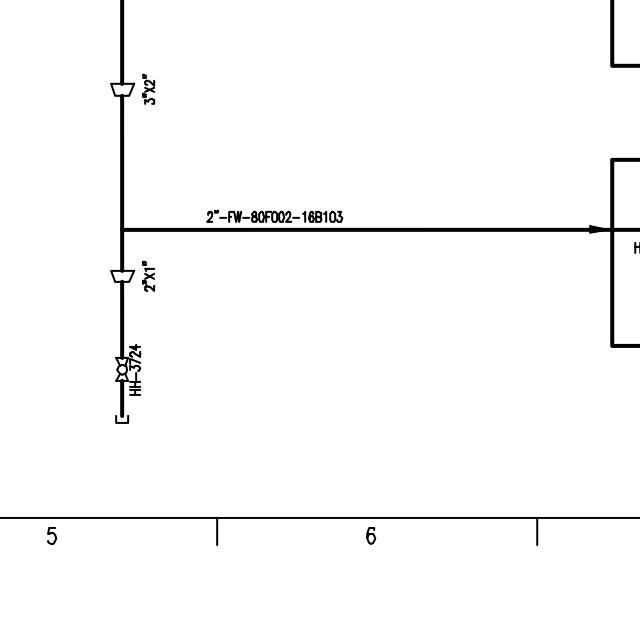BV2: (113, 352, 131, 384)
EC: (111, 395, 134, 425)
SP: (105, 266, 137, 286), (110, 80, 138, 99)
